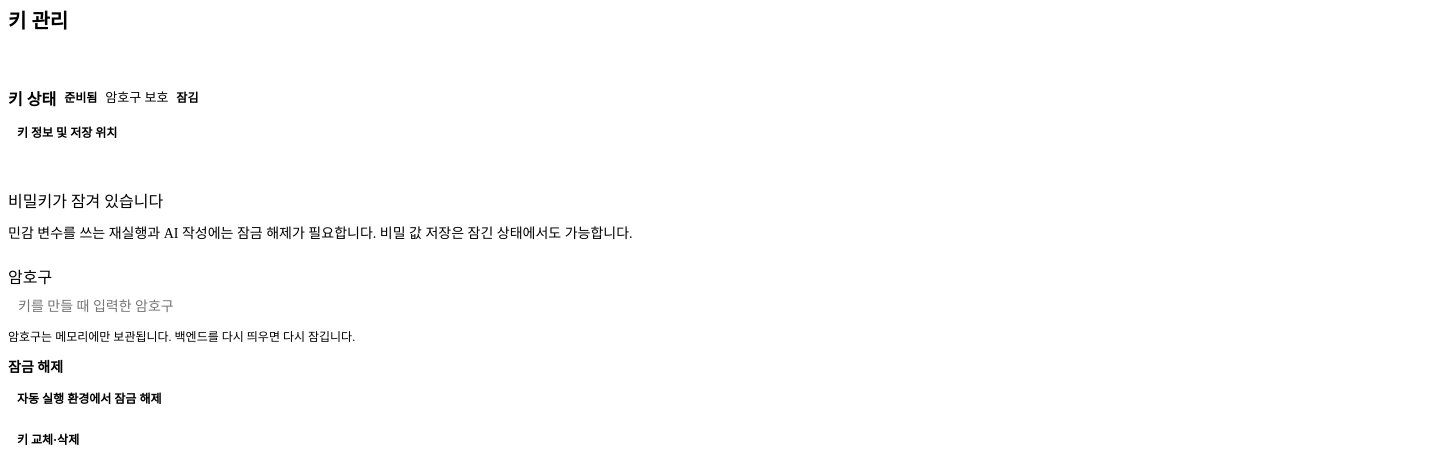
Test: KeyManagement — 잠금 해제 (FR-089e-3) › 해제하면 잠금 해제 경로를 부르고 열린 상태로 바뀐다
Type "correct-horse" into the password field labelled "암호구".
click(720, 306); type("correct-horse")  # box [8,296,1432,317]
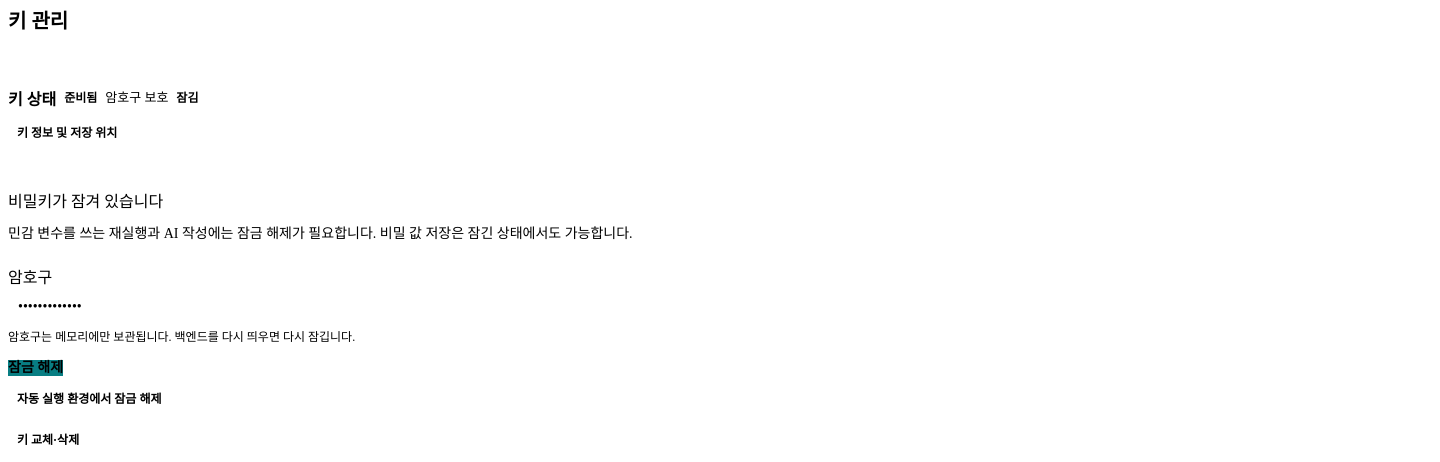
Click the button "잠금 해제".
click(36, 368)  # box [8,360,63,376]
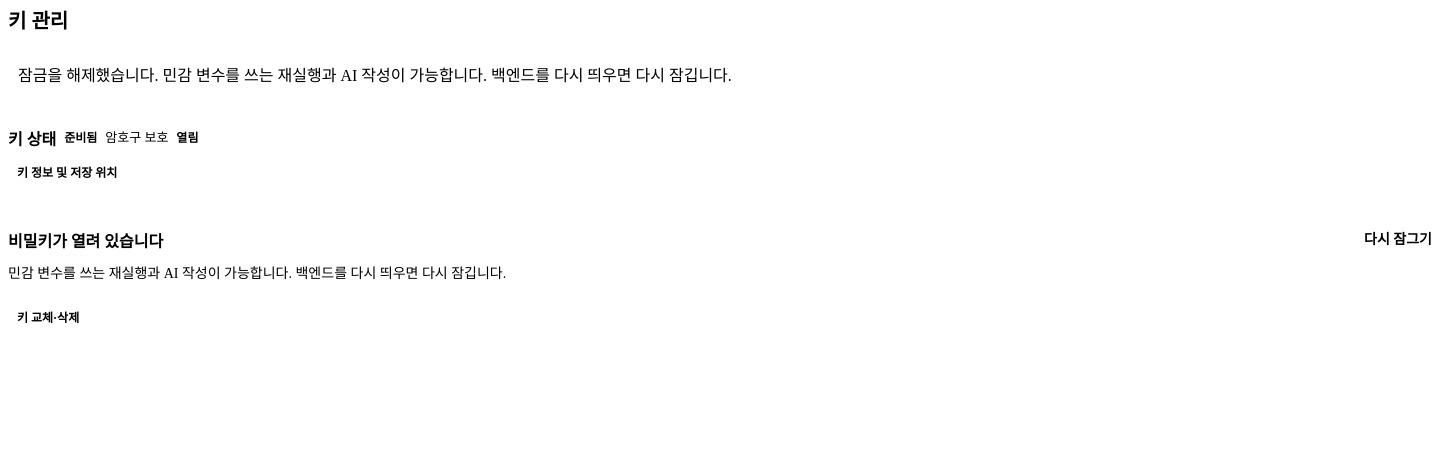
Expected: the text "잠금을 해제했습니다. 민감 변수를 쓰는 재실행과 AI 작성이 가능합니다. 백엔드를 다시 띄우면 다시 잠깁니다." is shown, [18,67,732,84]
Expected: the text "비밀키가 잠겨 있습니다" is gone
